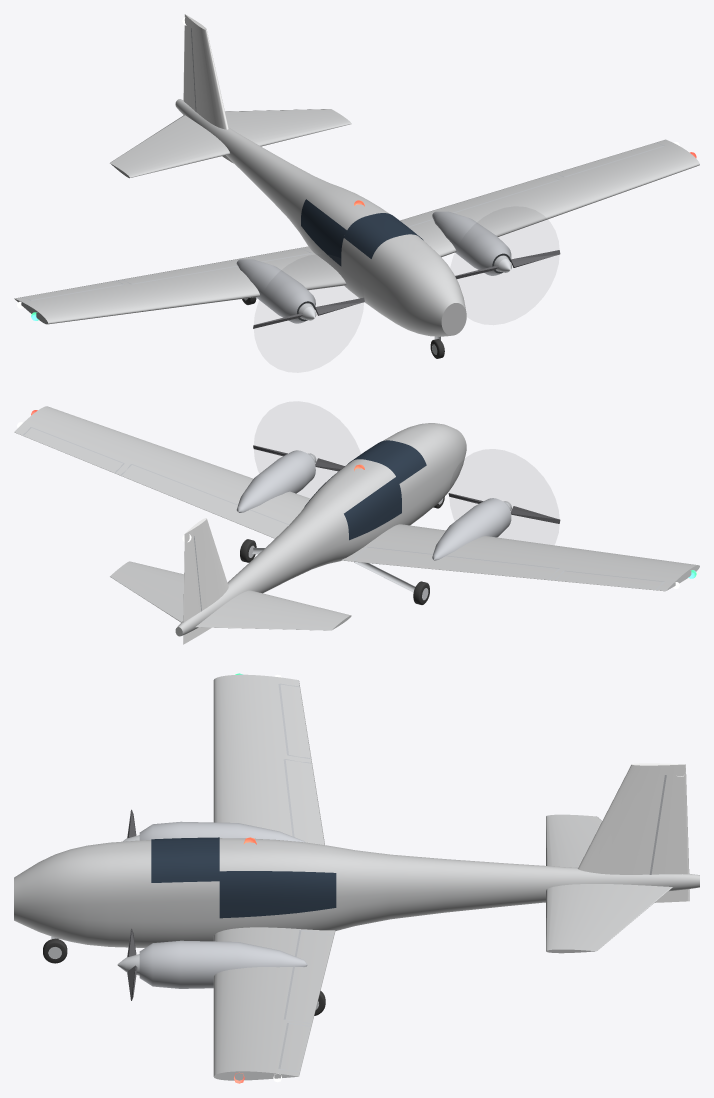
3 views of the same model, one above another, from view 1: azimuth 30°, elevation 25°; view 2: azimuth 150°, elevation 25°; view 3: azimuth 270°, elevation 25° (orthographic). The views are drawn at different scales.
Parts seen in each view (by area): view 1: airframe, prop (×2); view 2: airframe, gear, prop; view 3: airframe, gear.
Part boxes in pixels (x1,y1,x2,y2): airframe: [14, 14, 699, 336]; prop (×2): [253, 250, 560, 328]; airframe: [14, 406, 699, 644]; gear: [240, 496, 444, 604]; prop: [448, 493, 560, 523]; airframe: [14, 673, 699, 1083]; gear: [43, 936, 325, 1015].
Bounding box in the file's own units: 12.12 × 2.98 × 8.7.
